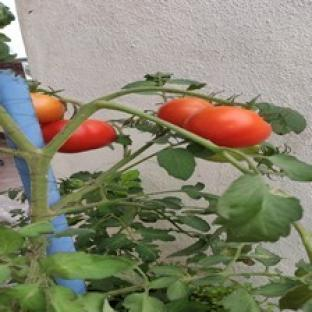Tomato: (184, 106, 271, 147), (59, 120, 116, 153), (158, 98, 213, 126), (31, 94, 65, 123), (228, 145, 261, 161)
